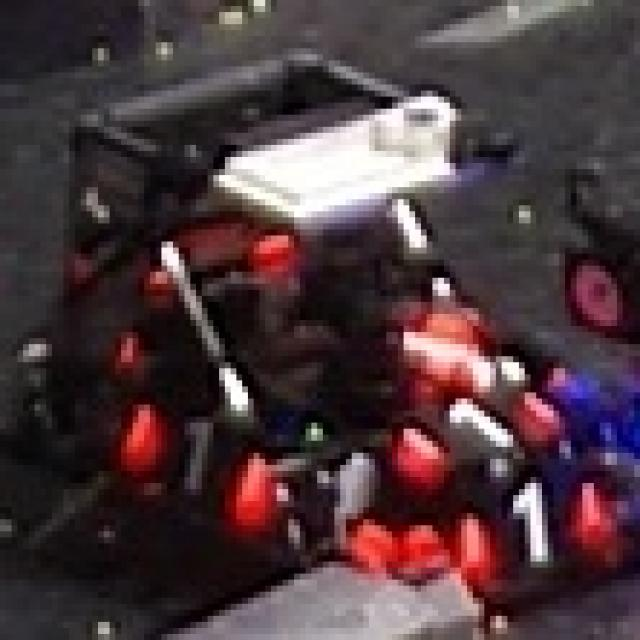R1: (427, 465, 611, 586), (104, 389, 277, 516), (386, 365, 560, 474)
